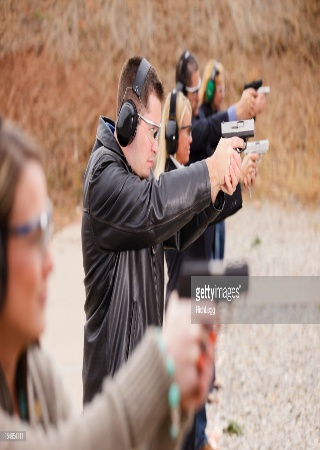handgun: (217, 113, 257, 141)
